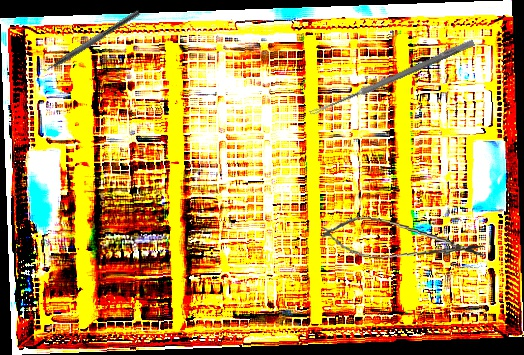Chopper: (32, 2, 142, 80)
Micro Scissor: (317, 212, 489, 270)
Surgical Spoon: (309, 38, 475, 118)
